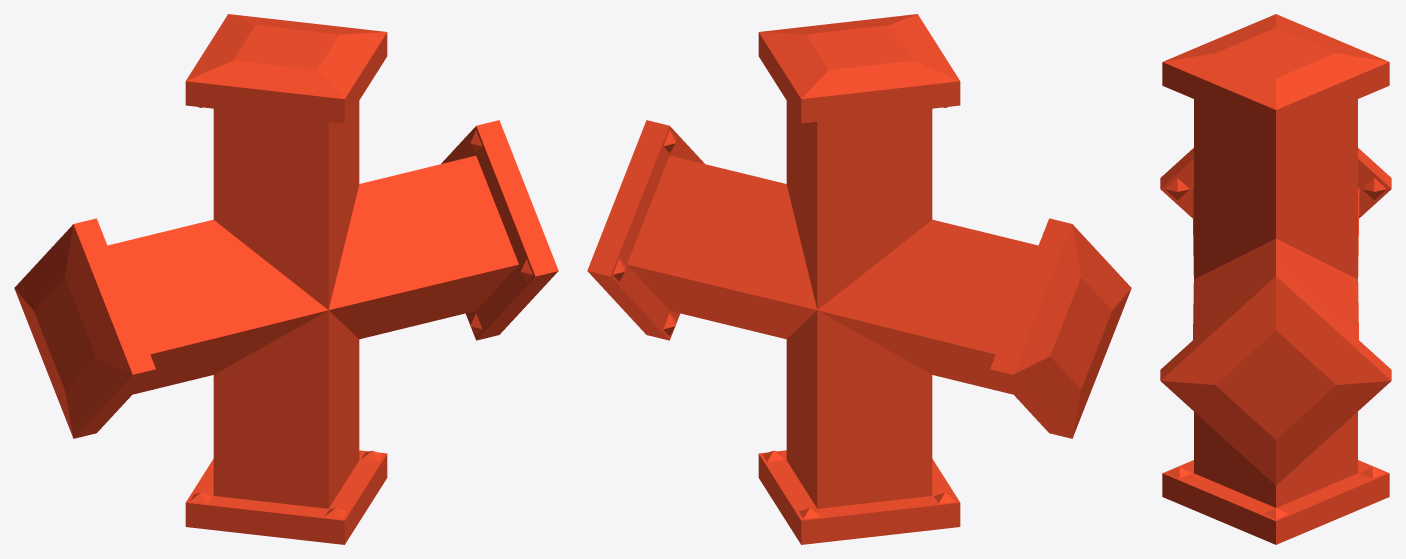
File: SM_Pipe_Plus_City.fbx
3 views of the same model, side by side, from view 1: azimuth 30°, elevation 25°; view 2: azimuth 150°, elevation 25°; view 3: azimuth 270°, elevation 25° (orthographic). The views are drawn at different scales.
Parts seen in each view (by area): view 1: SM_Pipe_Plus_City; view 2: SM_Pipe_Plus_City; view 3: SM_Pipe_Plus_City.
Part boxes in pixels (<box>): SM_Pipe_Plus_City: <box>14,14,558,544</box>; SM_Pipe_Plus_City: <box>587,14,1131,544</box>; SM_Pipe_Plus_City: <box>1160,14,1391,544</box>.
Bounding box in the file's own units: 0.204 × 0.204 × 0.0945.
